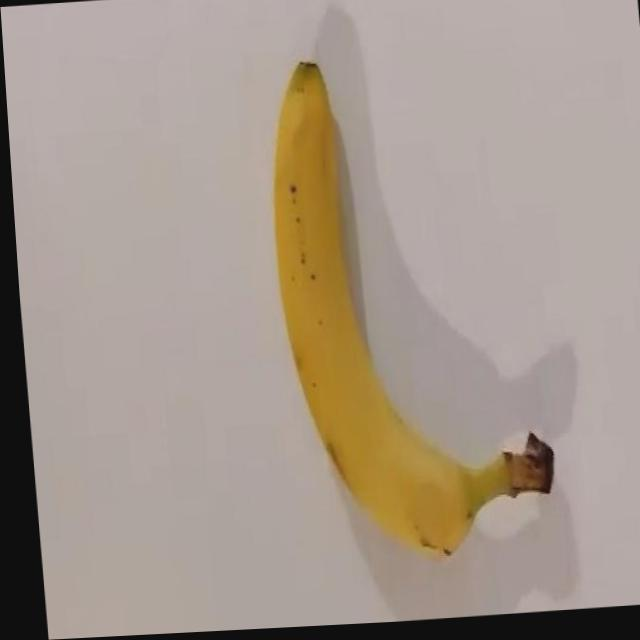Banana: (257, 49, 553, 571)
